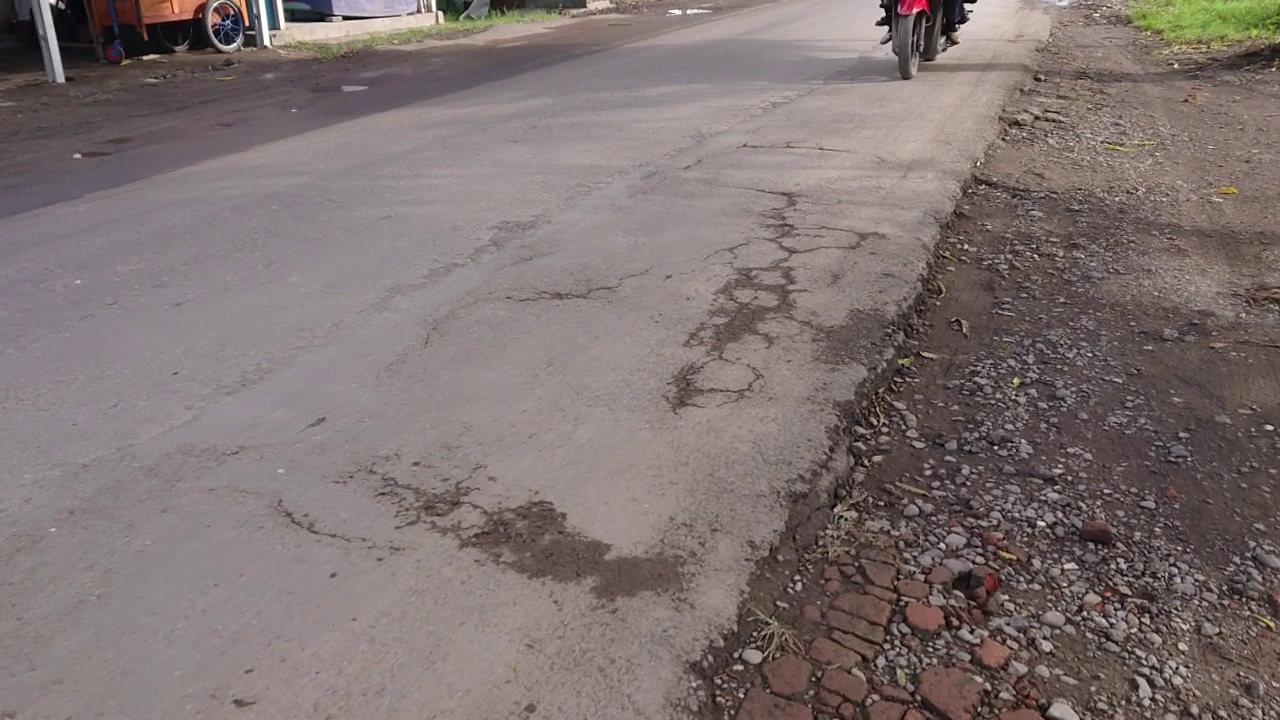Retak: (387, 462, 686, 613), (676, 204, 844, 403)
